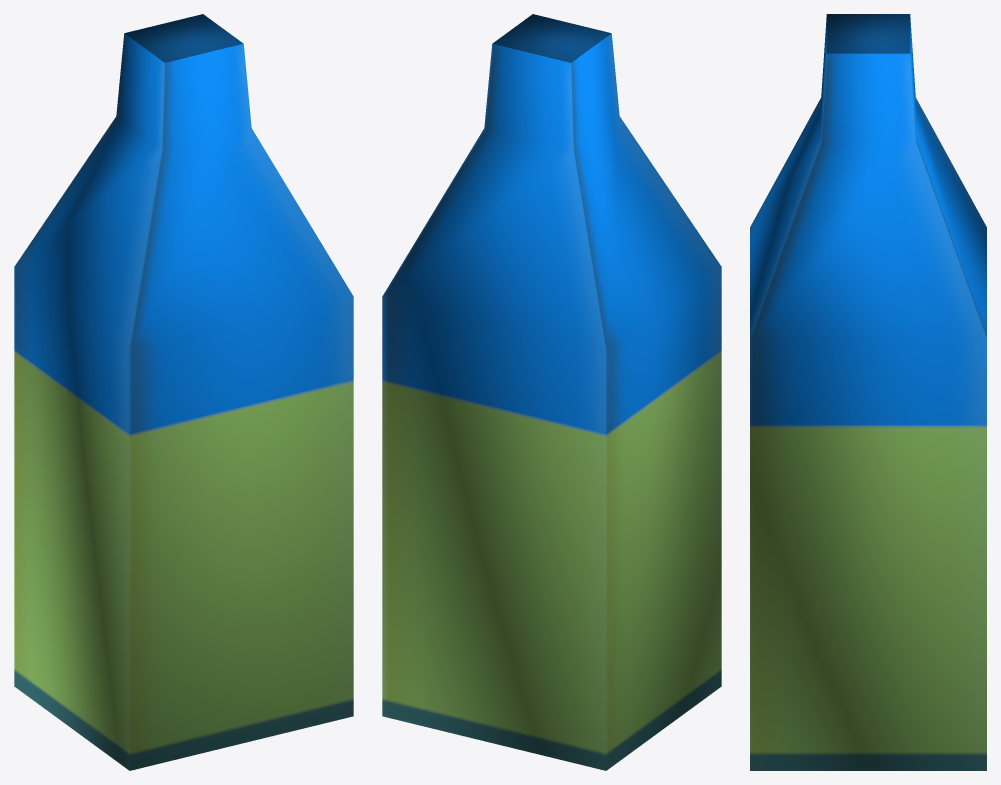
Rendered from Bottle Boost.fbx.
3 views of the same model, side by side, from view 1: azimuth 30°, elevation 25°; view 2: azimuth 150°, elevation 25°; view 3: azimuth 270°, elevation 25° (orthographic). The views are drawn at different scales.
Parts seen in each view (by area): view 1: pCube1; view 2: pCube1; view 3: pCube1.
Boxes of the visible parts, box(x1,y1,x2,y2) form: pCube1: box(14, 14, 353, 770); pCube1: box(382, 14, 721, 770); pCube1: box(750, 14, 986, 770).
Bounding box in the file's own units: 8.17 × 23.13 × 7.29.
Materials: 1 (1 with a texture image).
